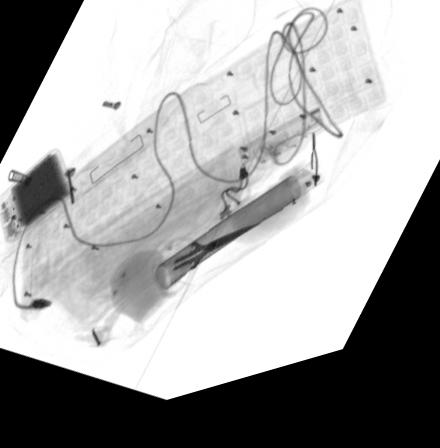Powerbank: (0, 155, 72, 246)
Scissors: (153, 235, 262, 311)
